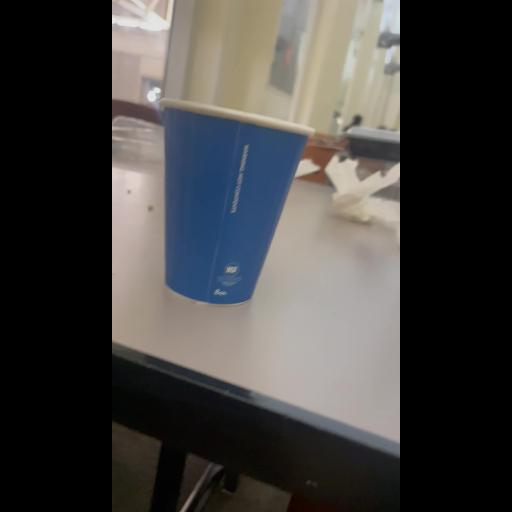lp_paper_cup: (158, 102, 314, 306)
